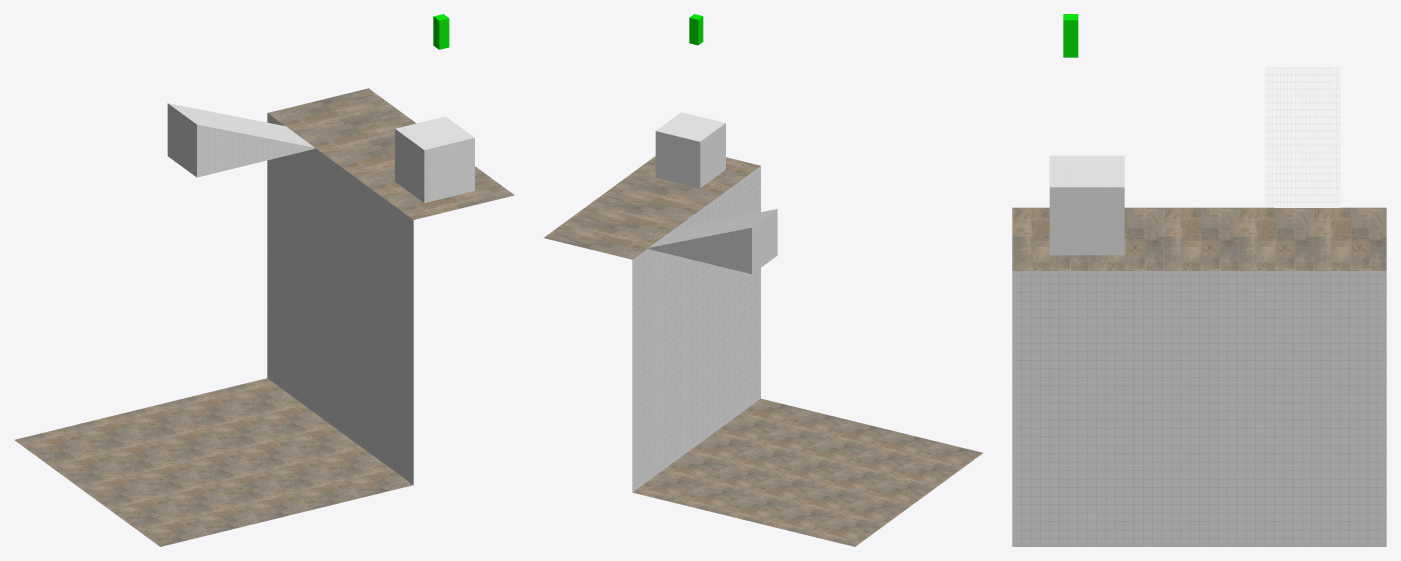
File: mall.gltf
The picture shows the model from 3 angles, left to right: view 1: azimuth 30°, elevation 25°; view 2: azimuth 150°, elevation 25°; view 3: azimuth 270°, elevation 25°; orthographic projection. The views are drawn at different scales.
Parts seen in each view (by area): view 1: Plane.002, Plane.001, Plane, Cube.002, Cube; view 2: Plane.001, Plane.002, Plane, Cube.002, Cube; view 3: Plane.002, Plane, Cube.002, Cube, Cube.001.
Boxes of the visible parts, x1=… form: Plane.002: x1=267, y1=113, x2=413, y2=484; Plane.001: x1=14, y1=378, x2=413, y2=546; Plane: x1=268, y1=88, x2=514, y2=219; Cube.002: x1=167, y1=103, x2=314, y2=177; Cube: x1=395, y1=116, x2=474, y2=202; Plane.001: x1=633, y1=398, x2=982, y2=546; Plane.002: x1=632, y1=166, x2=760, y2=492; Plane: x1=544, y1=156, x2=760, y2=259; Cube.002: x1=648, y1=209, x2=777, y2=274; Cube: x1=655, y1=112, x2=725, y2=188; Plane.002: x1=1012, y1=271, x2=1386, y2=546; Plane: x1=1012, y1=207, x2=1386, y2=270; Cube.002: x1=1265, y1=67, x2=1340, y2=207; Cube: x1=1049, y1=155, x2=1124, y2=255; Cube.001: x1=1063, y1=14, x2=1078, y2=57.
Size of the model in its own units: 14 by 16.55 by 10.
Materials: 3 (3 with a texture image).
